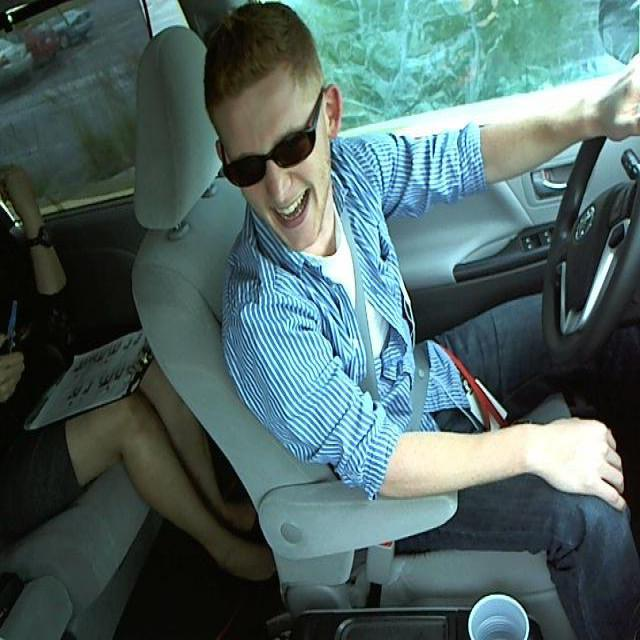seatbelt: (327, 231, 441, 429)
